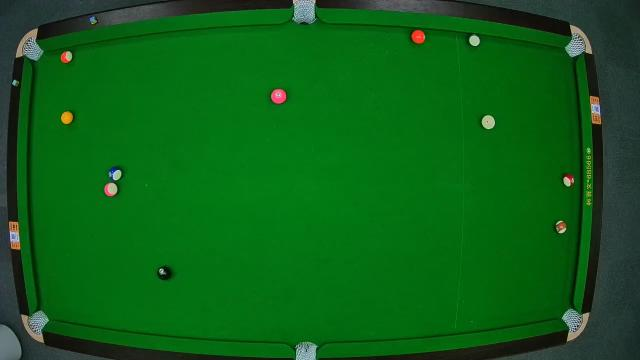bag1: (22, 38, 44, 62)
bag2: (293, 1, 315, 23)
bag3: (566, 34, 586, 57)
bag4: (29, 308, 49, 334)
bag5: (294, 342, 320, 360)
bag6: (562, 310, 582, 332)
ball0: (480, 114, 496, 131)
ball1: (60, 110, 76, 126)
ball10: (108, 165, 124, 181)
ball11: (562, 170, 576, 188)
ball12: (103, 180, 119, 198)
ball13: (60, 50, 74, 63)
ball14: (466, 33, 482, 49)
ball15: (556, 219, 568, 235)
ball4: (269, 88, 287, 105)
ball5: (409, 26, 426, 44)
ball8: (156, 266, 172, 280)
